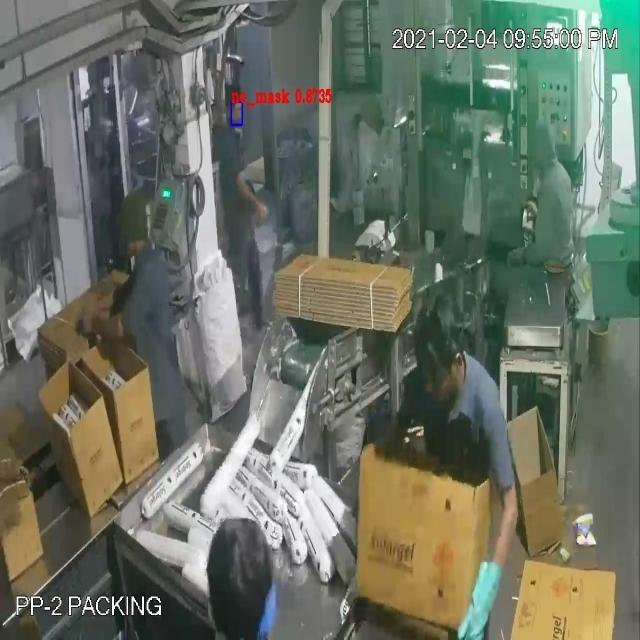No_Gloves: (50, 62, 483, 550)
